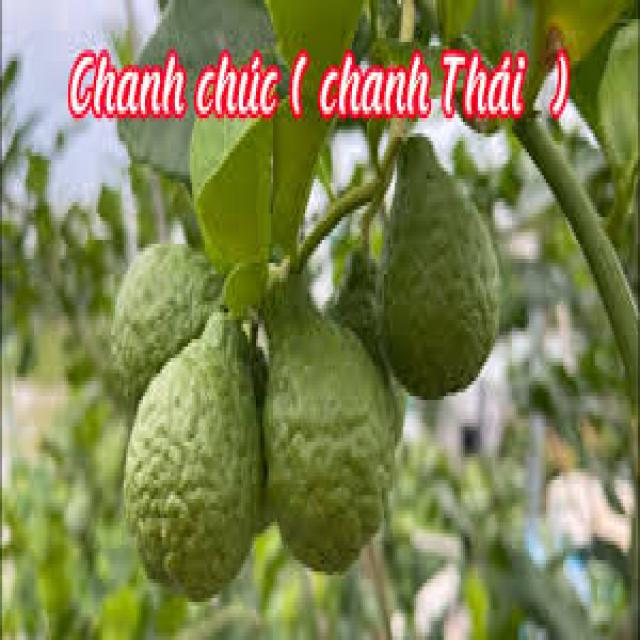Chuc: (260, 286, 403, 575), (121, 305, 262, 598), (376, 130, 502, 400), (107, 236, 224, 408)
